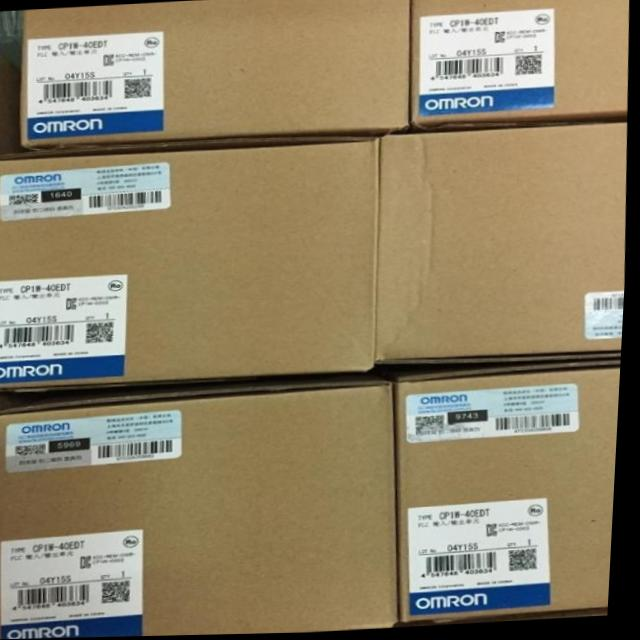box: (0, 384, 405, 640), (0, 143, 382, 391), (381, 125, 627, 368), (403, 362, 625, 624), (21, 0, 413, 147), (410, 0, 629, 133)
